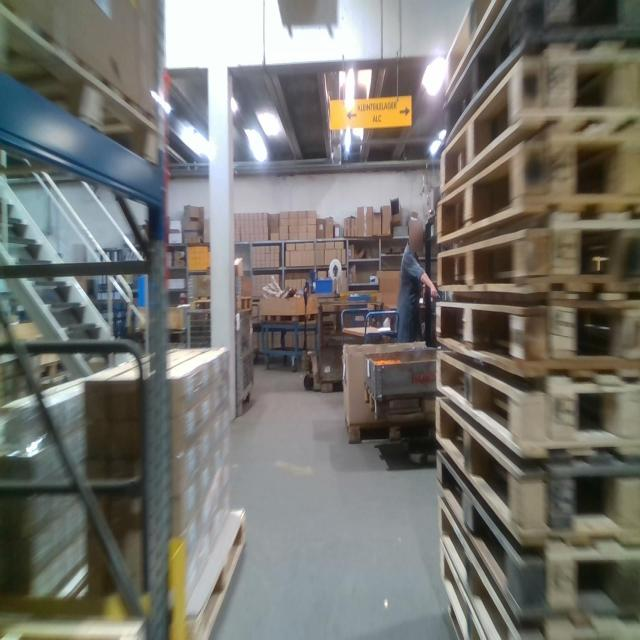pallet: (2, 0, 164, 171), (76, 499, 249, 639), (436, 395, 487, 500), (437, 451, 488, 535), (434, 169, 486, 246), (435, 349, 487, 425), (435, 299, 486, 363), (343, 412, 435, 444), (439, 133, 486, 194), (436, 240, 488, 292), (364, 386, 435, 412), (439, 498, 466, 536), (238, 296, 253, 310)
pallet_truck: (392, 206, 453, 465), (297, 277, 320, 395)
stillage: (180, 304, 257, 416), (315, 301, 380, 388)
